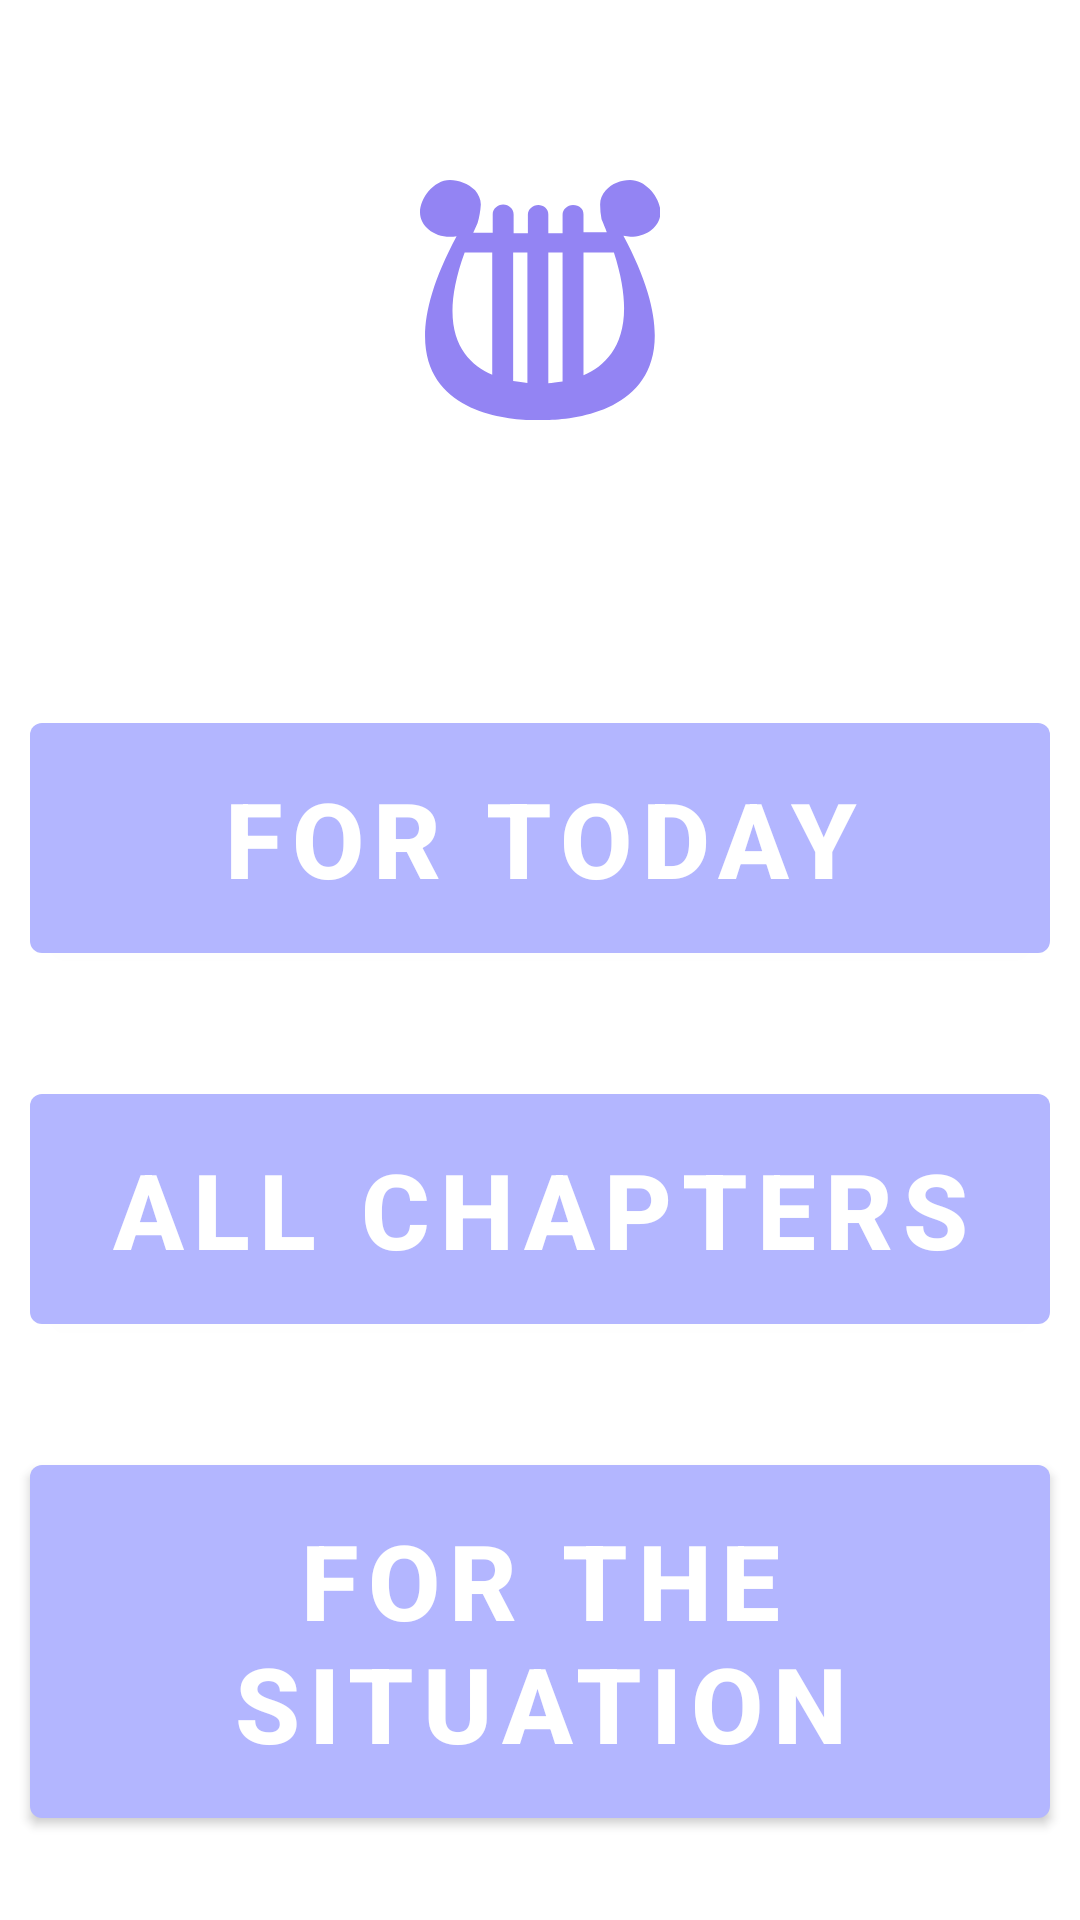

Named icons in this screenshot (1080*1920) and their centers, (x=x, y=y):
harp: (x=540, y=300)
